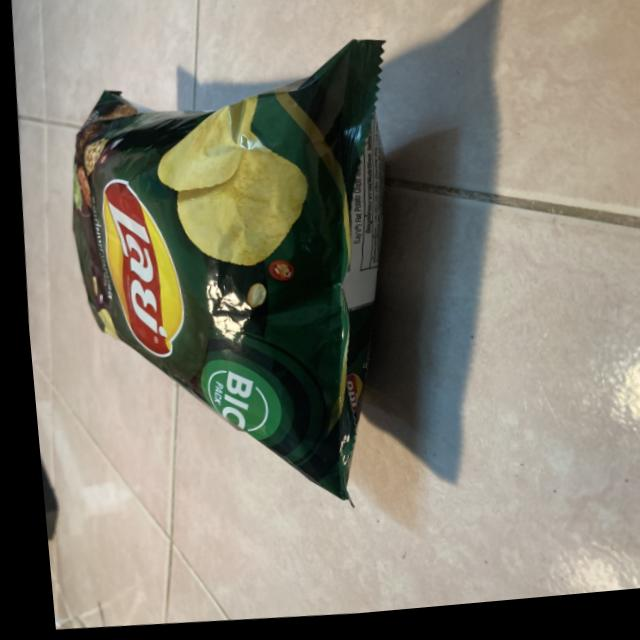Laygreen: (5, 14, 466, 503)
